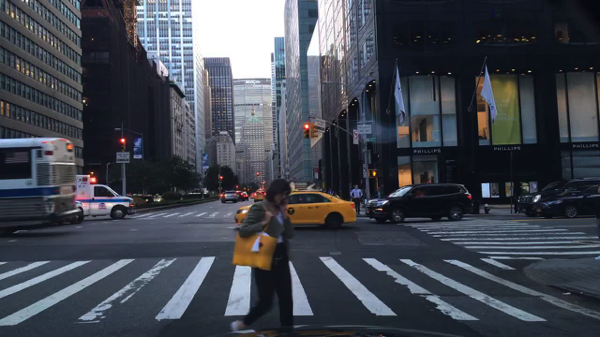bus: (0, 138, 81, 237)
car: (235, 181, 356, 230), (364, 183, 473, 225), (516, 176, 599, 214), (526, 185, 599, 219), (221, 192, 237, 203), (254, 192, 265, 202), (154, 195, 164, 202), (238, 191, 244, 202), (245, 191, 249, 200)
person: (228, 179, 295, 330), (348, 185, 362, 215), (373, 188, 382, 198)
traffic light: (119, 139, 126, 152), (312, 122, 317, 138), (303, 124, 309, 137), (371, 171, 380, 178), (219, 174, 223, 180), (256, 172, 259, 178)
traffic sign: (315, 118, 325, 132), (116, 153, 129, 163), (357, 125, 371, 134), (364, 151, 371, 164), (362, 164, 367, 179), (353, 131, 358, 144), (367, 138, 377, 141), (218, 181, 223, 184)
truck: (76, 174, 137, 224)
